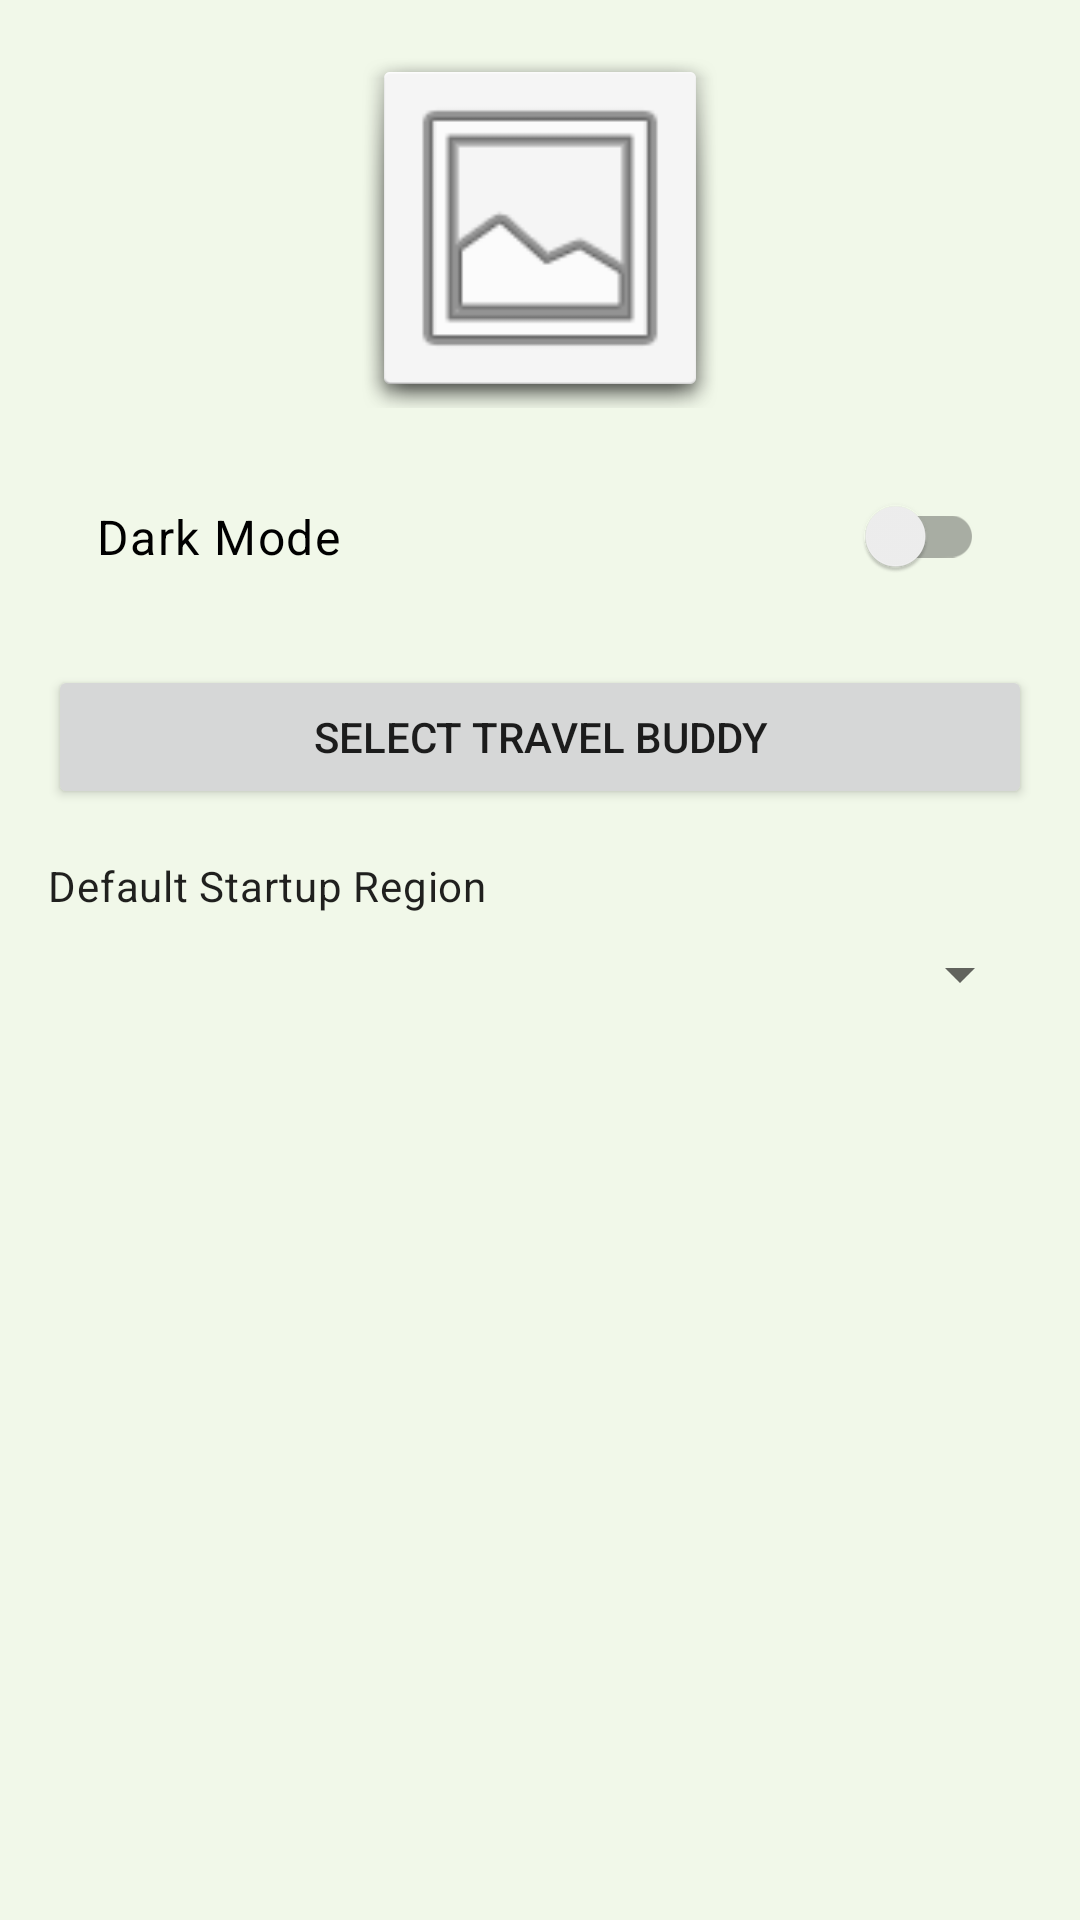

Screen size 1080w x 1920h. Icon name, then its center in pixels as (x=x, y=y):
gallery: (x=540, y=235)
